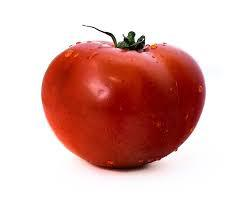tomato: (36, 39, 211, 170)
